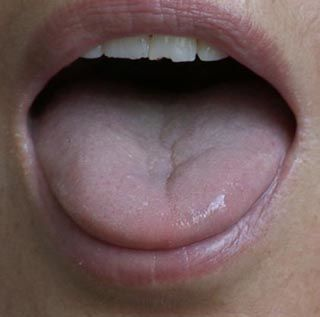pangdashe: (31, 82, 293, 248)
